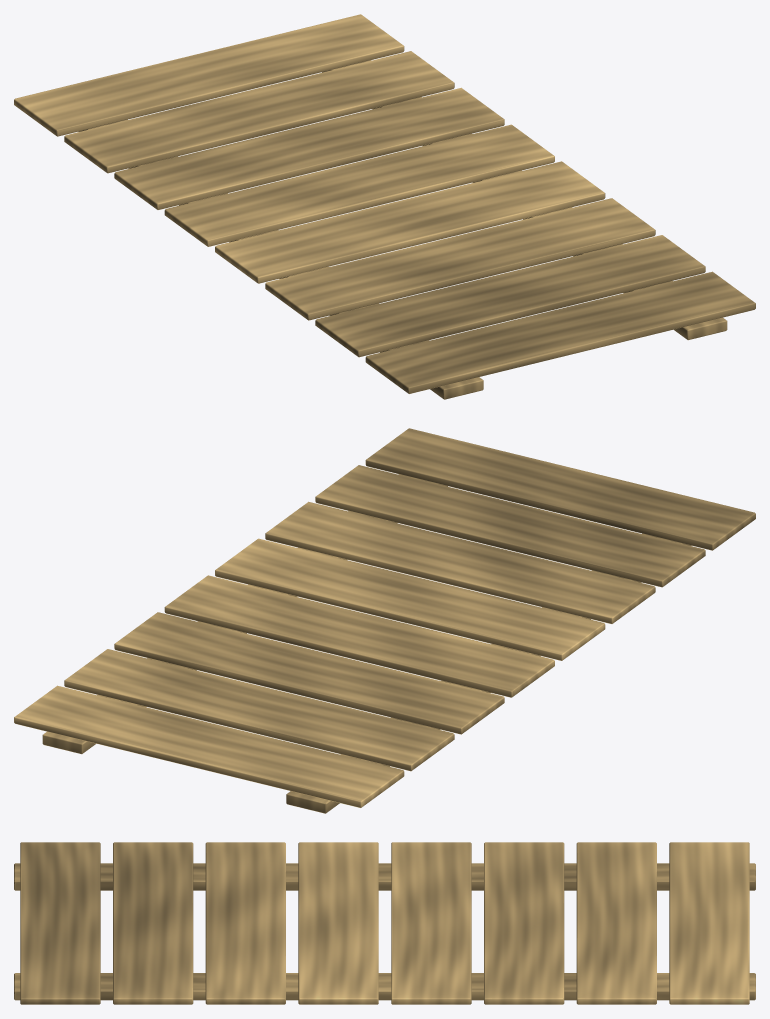
File: Furn_Dress_Duckboard.fbx
3 views of the same model, one above another, from view 1: azimuth 30°, elevation 25°; view 2: azimuth 150°, elevation 25°; view 3: azimuth 270°, elevation 25° (orthographic). The views are drawn at different scales.
Parts seen in each view (by area): view 1: Furn_Dress_Duckboard; view 2: Furn_Dress_Duckboard; view 3: Furn_Dress_Duckboard.
Boxes of the visible parts, x1,y1,x2,y2 form: Furn_Dress_Duckboard: [14, 14, 755, 399]; Furn_Dress_Duckboard: [14, 428, 755, 813]; Furn_Dress_Duckboard: [14, 842, 755, 1004].
Size of the model in its own units: 0.6 by 0.03 by 1.2.
Materials: 1 (1 with a texture image).
